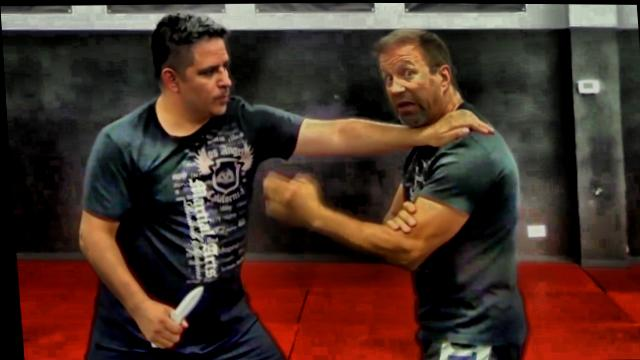knife: (138, 279, 208, 355)
